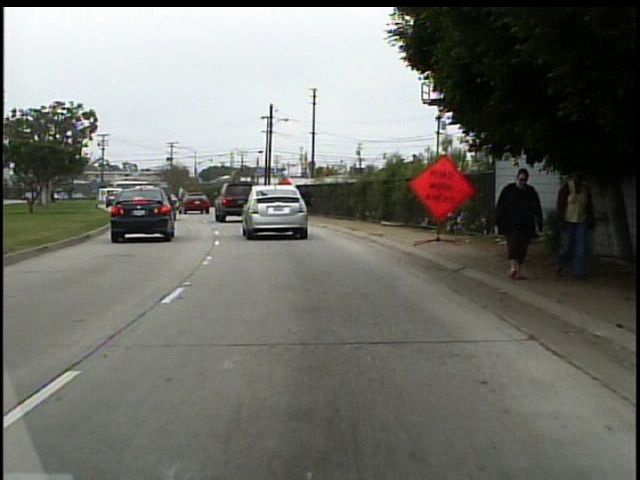person: (482, 165, 543, 291), (547, 162, 599, 287), (298, 178, 319, 215)
